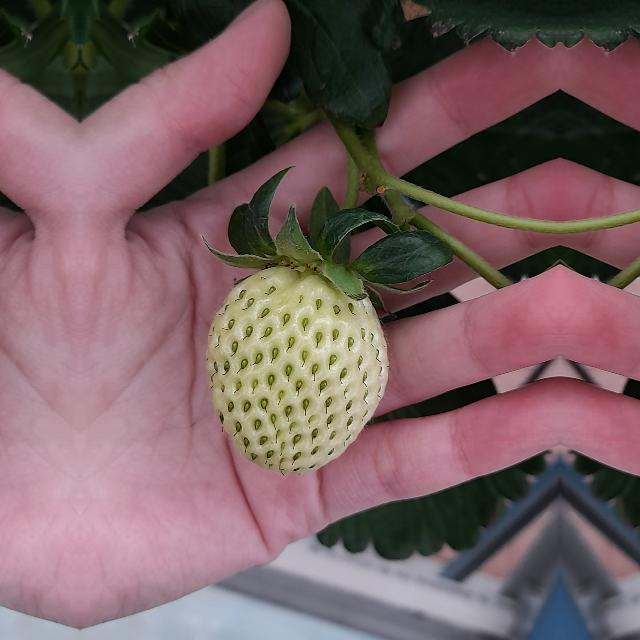Health_25: (205, 266, 388, 474)
